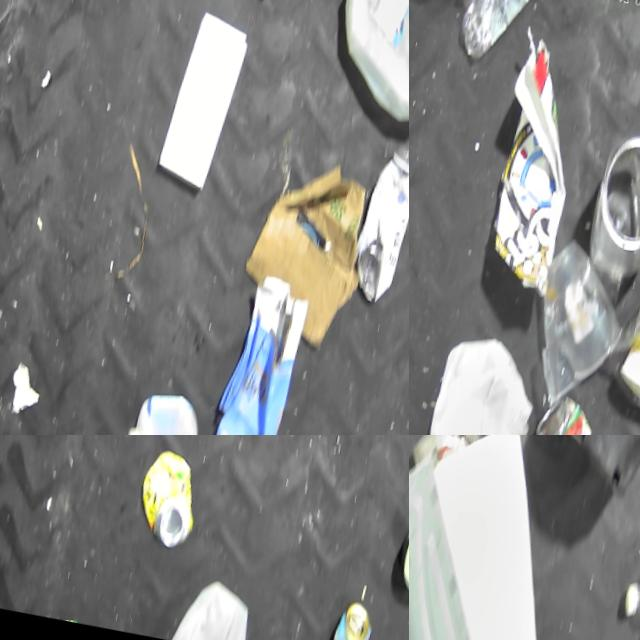can: (124, 446, 203, 553), (510, 385, 596, 435), (311, 596, 371, 640), (385, 512, 409, 605)
milk_jug: (409, 322, 546, 435), (315, 0, 409, 136), (153, 570, 252, 640)
plastic_bottle: (332, 138, 409, 310), (450, 0, 561, 78), (611, 529, 640, 640)
